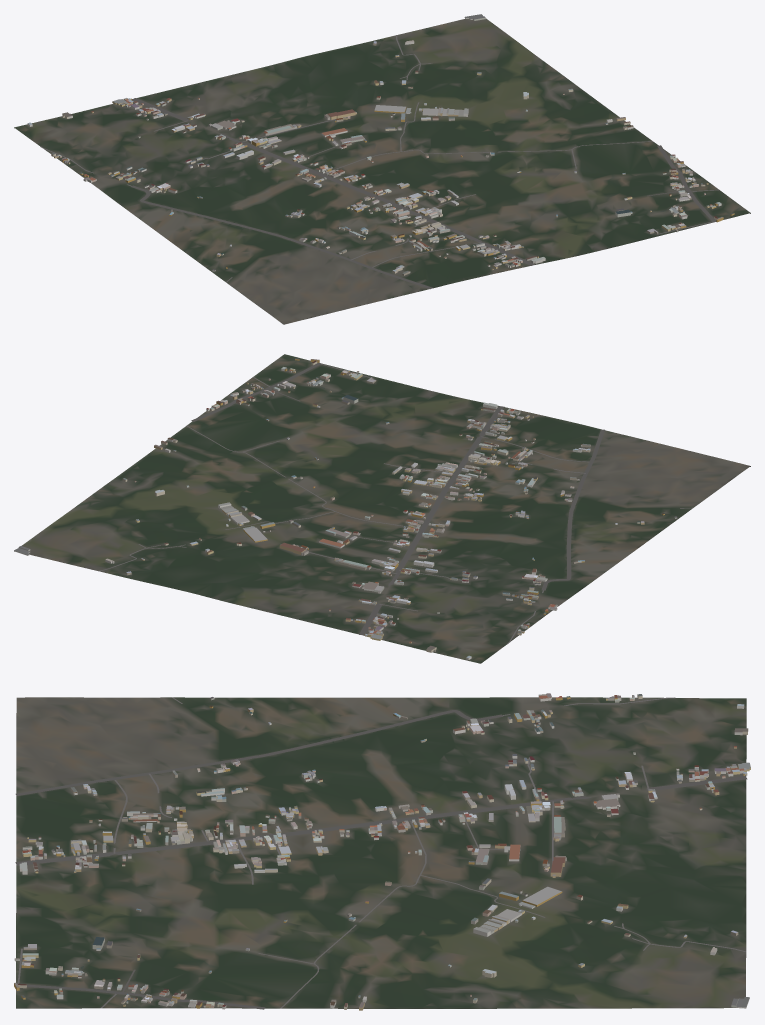
3 renders of one model, top to bottom at view 1: azimuth 30°, elevation 25°; view 2: azimuth 150°, elevation 25°; view 3: azimuth 270°, elevation 25°, orthographic. The views are drawn at different scales.
Parts seen in each view (by area): view 1: ground, buildings, roads; view 2: ground, buildings, roads; view 3: ground, buildings, roads.
Boxes of the visible parts, x1,y1,x2,y2 form: ground: [14, 18, 750, 324]; buildings: [27, 14, 734, 275]; roads: [40, 35, 719, 289]; ground: [14, 354, 750, 663]; buildings: [14, 358, 677, 659]; roads: [99, 362, 692, 644]; ground: [16, 697, 746, 1008]; buildings: [14, 693, 750, 1010]; roads: [15, 697, 747, 1009].
Bounding box in the file's own units: 1414 × 20.16 × 1414.
